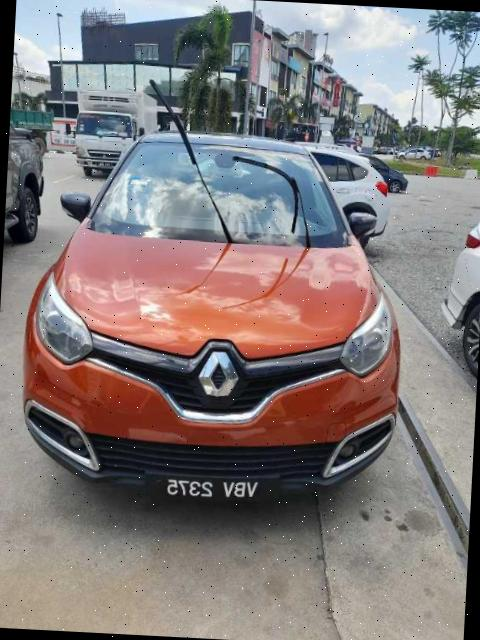License_Plate: (162, 476, 260, 504)
car: (16, 122, 414, 509)
